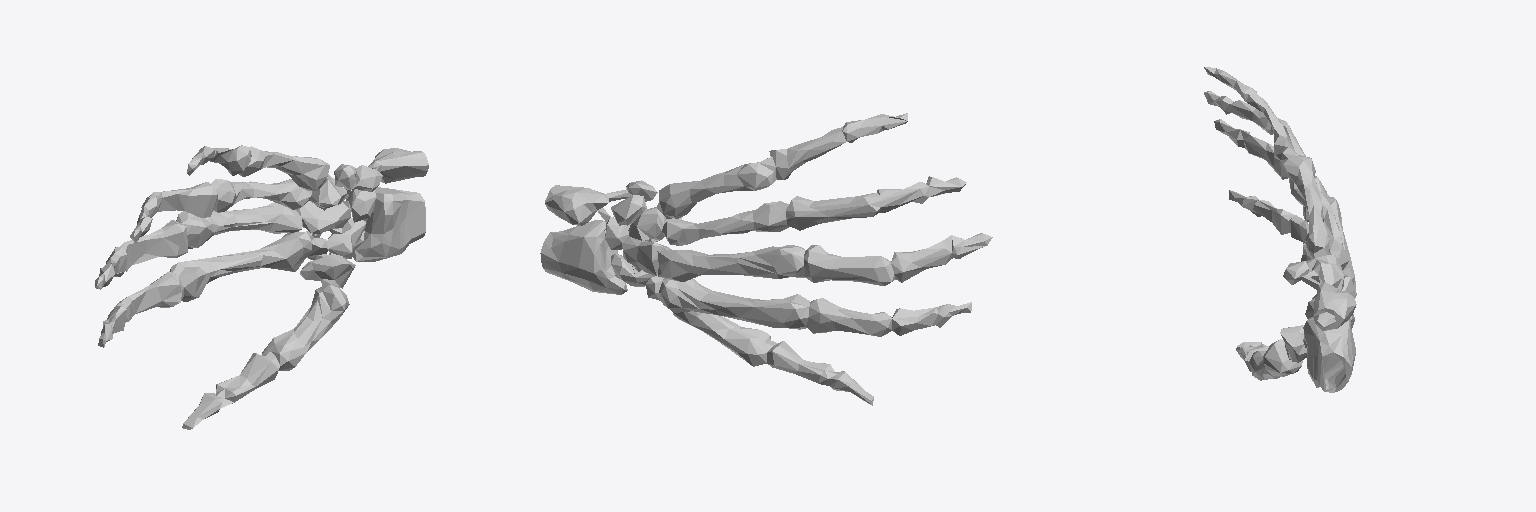
The model's file is hand.obj.
3 views of the same model, side by side, from view 1: azimuth 30°, elevation 25°; view 2: azimuth 150°, elevation 25°; view 3: azimuth 270°, elevation 25° (orthographic).
Size of the model in its own units: 6.64 by 4.65 by 2.3.